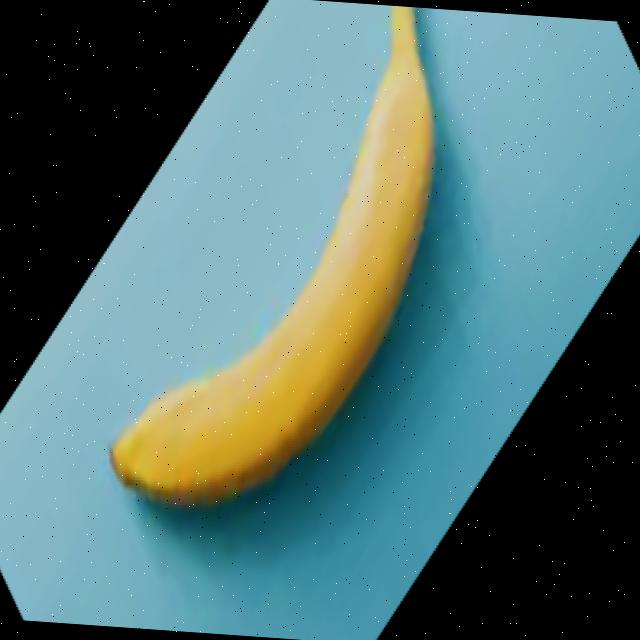Ripe: (97, 0, 445, 525)
